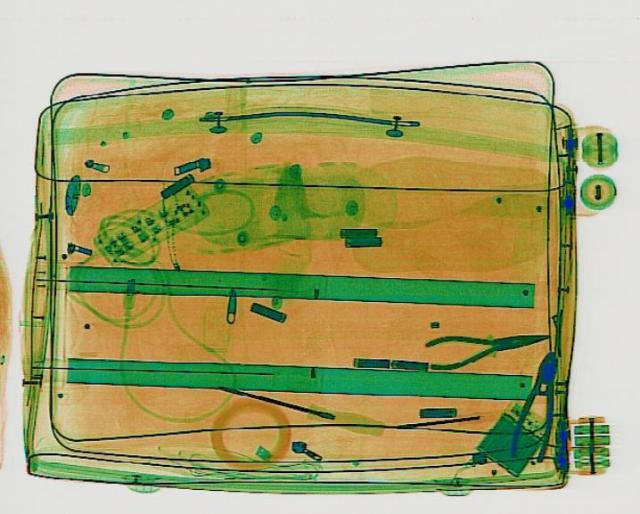Pliers: (421, 318, 552, 370), (506, 350, 566, 461)
